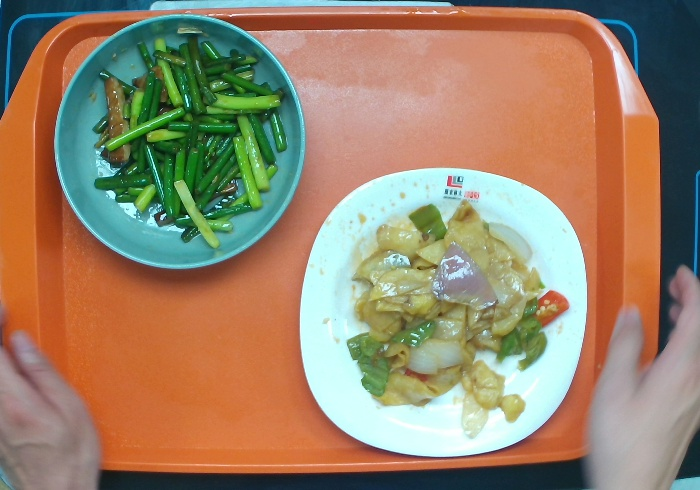ZNLD-Qing_Hua_Yuan_Wan: (51, 12, 307, 272)
ZNLD-Yuan_Jiao_Pan: (296, 163, 590, 460)
